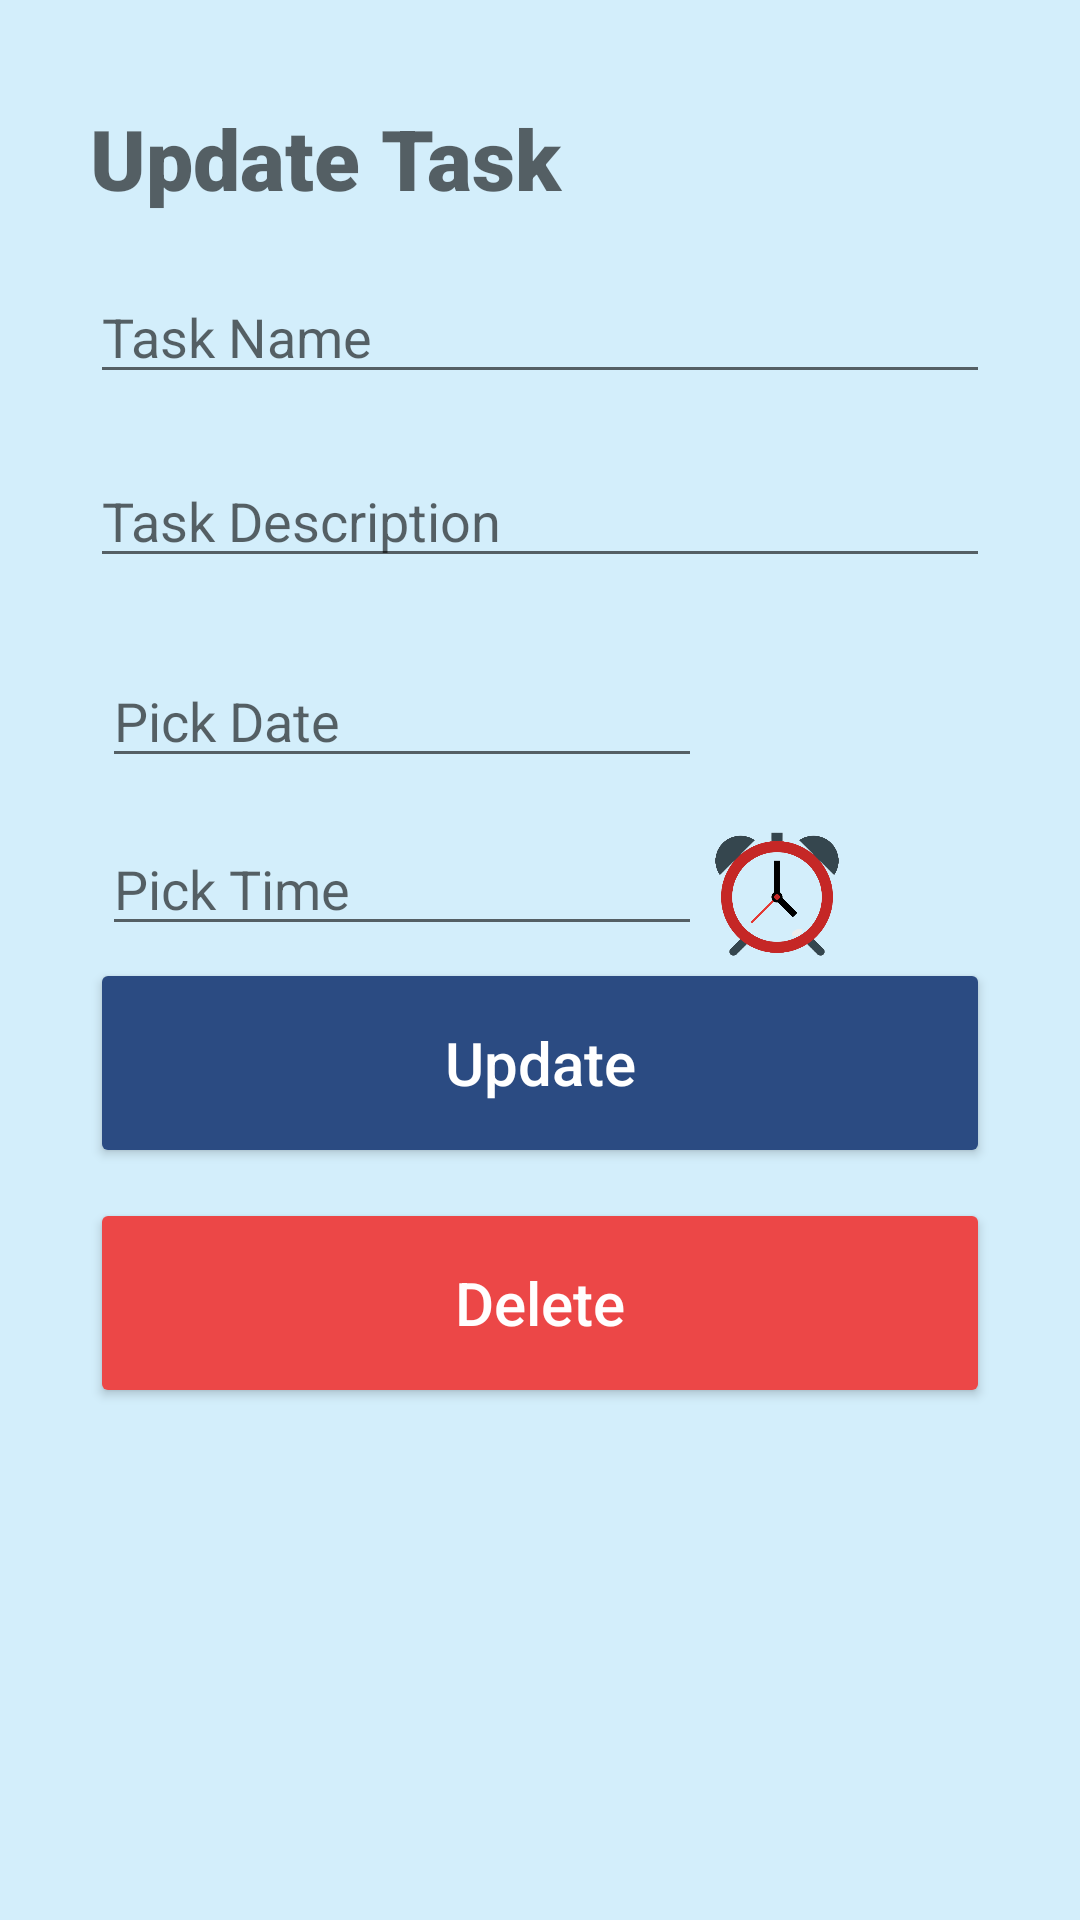

Point at icon controls on the screen. Image size 1080 × 1920, points as (x,y).
alarmicon: (777,894)
